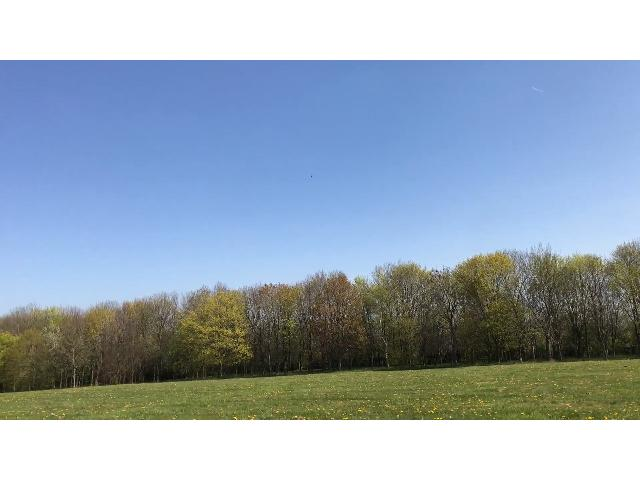Anti-Drone: (306, 172, 318, 184)
